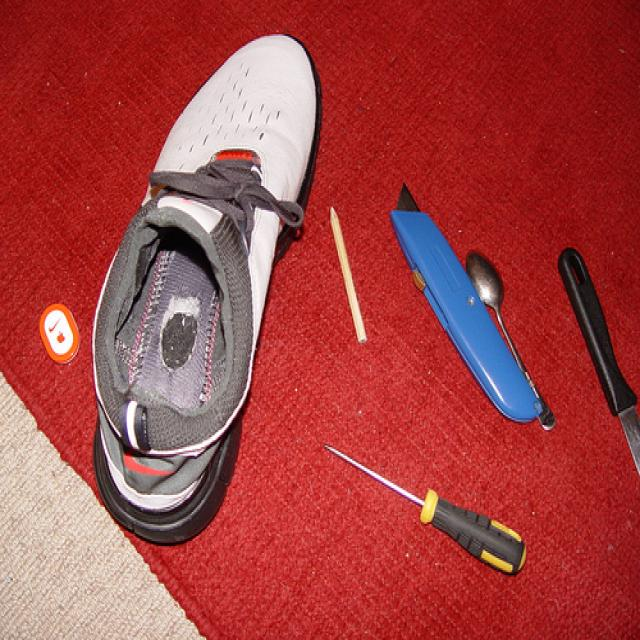screw driver: (302, 416, 592, 591)
